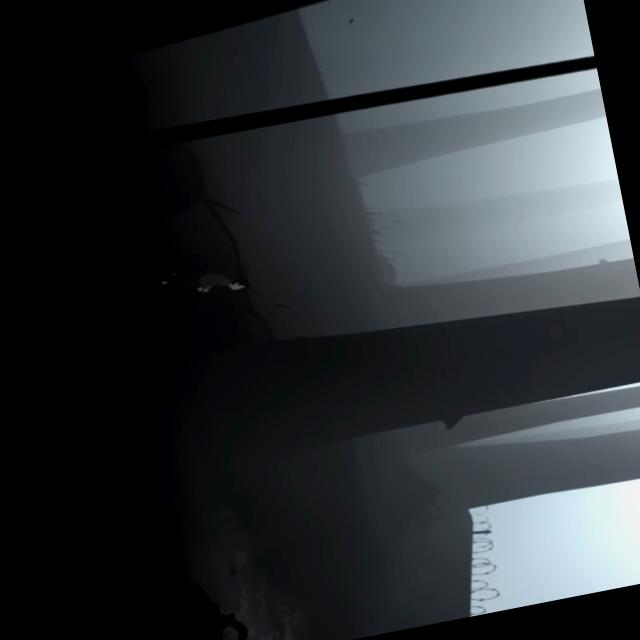boy: (155, 257, 250, 305)
